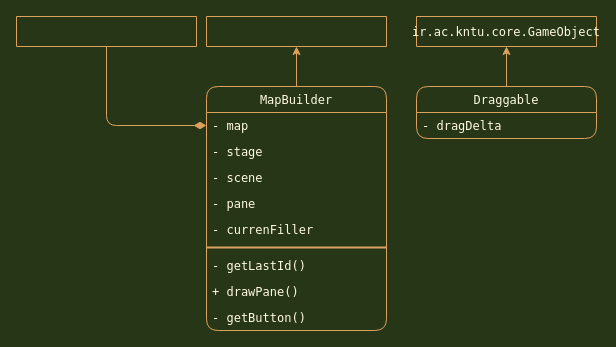
Some shapes in this 616 by 347 pixel diagram are drawn without their labels. The centre of each missing label's shape, as x and y in pixels:
"ir.ac.kntu.core.Map" goes at (x=106, y=31).
"javafx.scene.laout.Pane" goes at (x=296, y=31).
